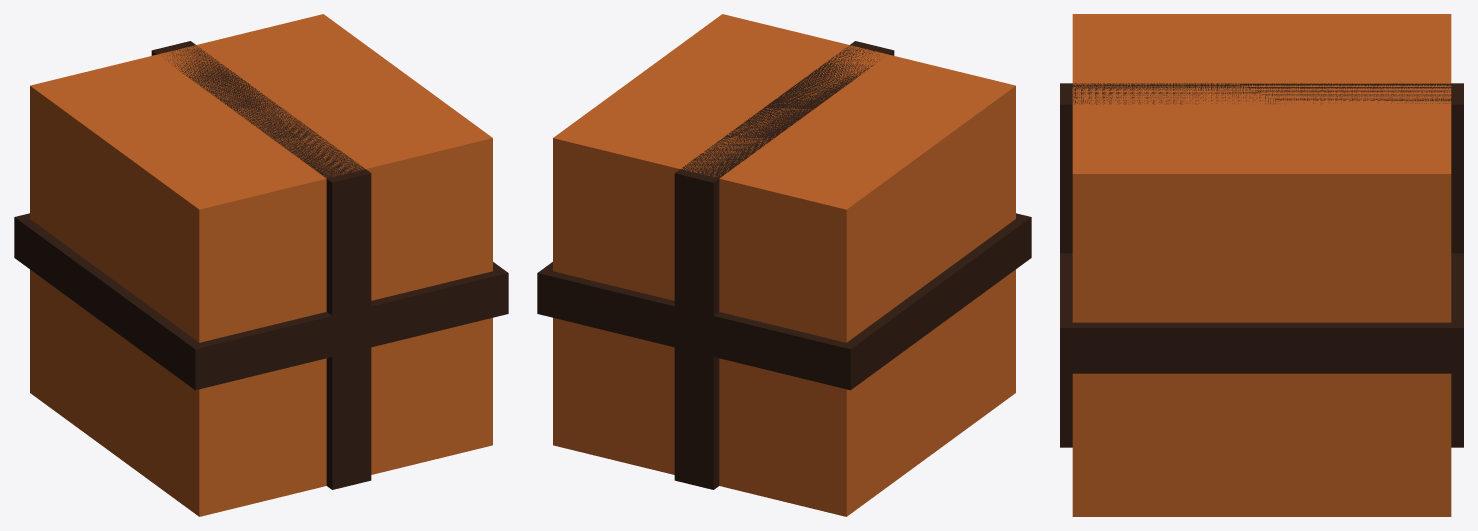
The model's file is th-basketball.glb.
The picture shows the model from 3 angles, left to right: view 1: azimuth 30°, elevation 25°; view 2: azimuth 150°, elevation 25°; view 3: azimuth 270°, elevation 25°; orthographic projection. The views are drawn at different scales.
Parts seen in each view (by area): view 1: box-prop; view 2: box-prop; view 3: box-prop.
Boxes of the visible parts, <box> form: box-prop: <box>14,14,508,516</box>; box-prop: <box>537,14,1031,516</box>; box-prop: <box>1060,14,1463,516</box>.
Size of the model in its own units: 0.32 by 0.3 by 0.32.
